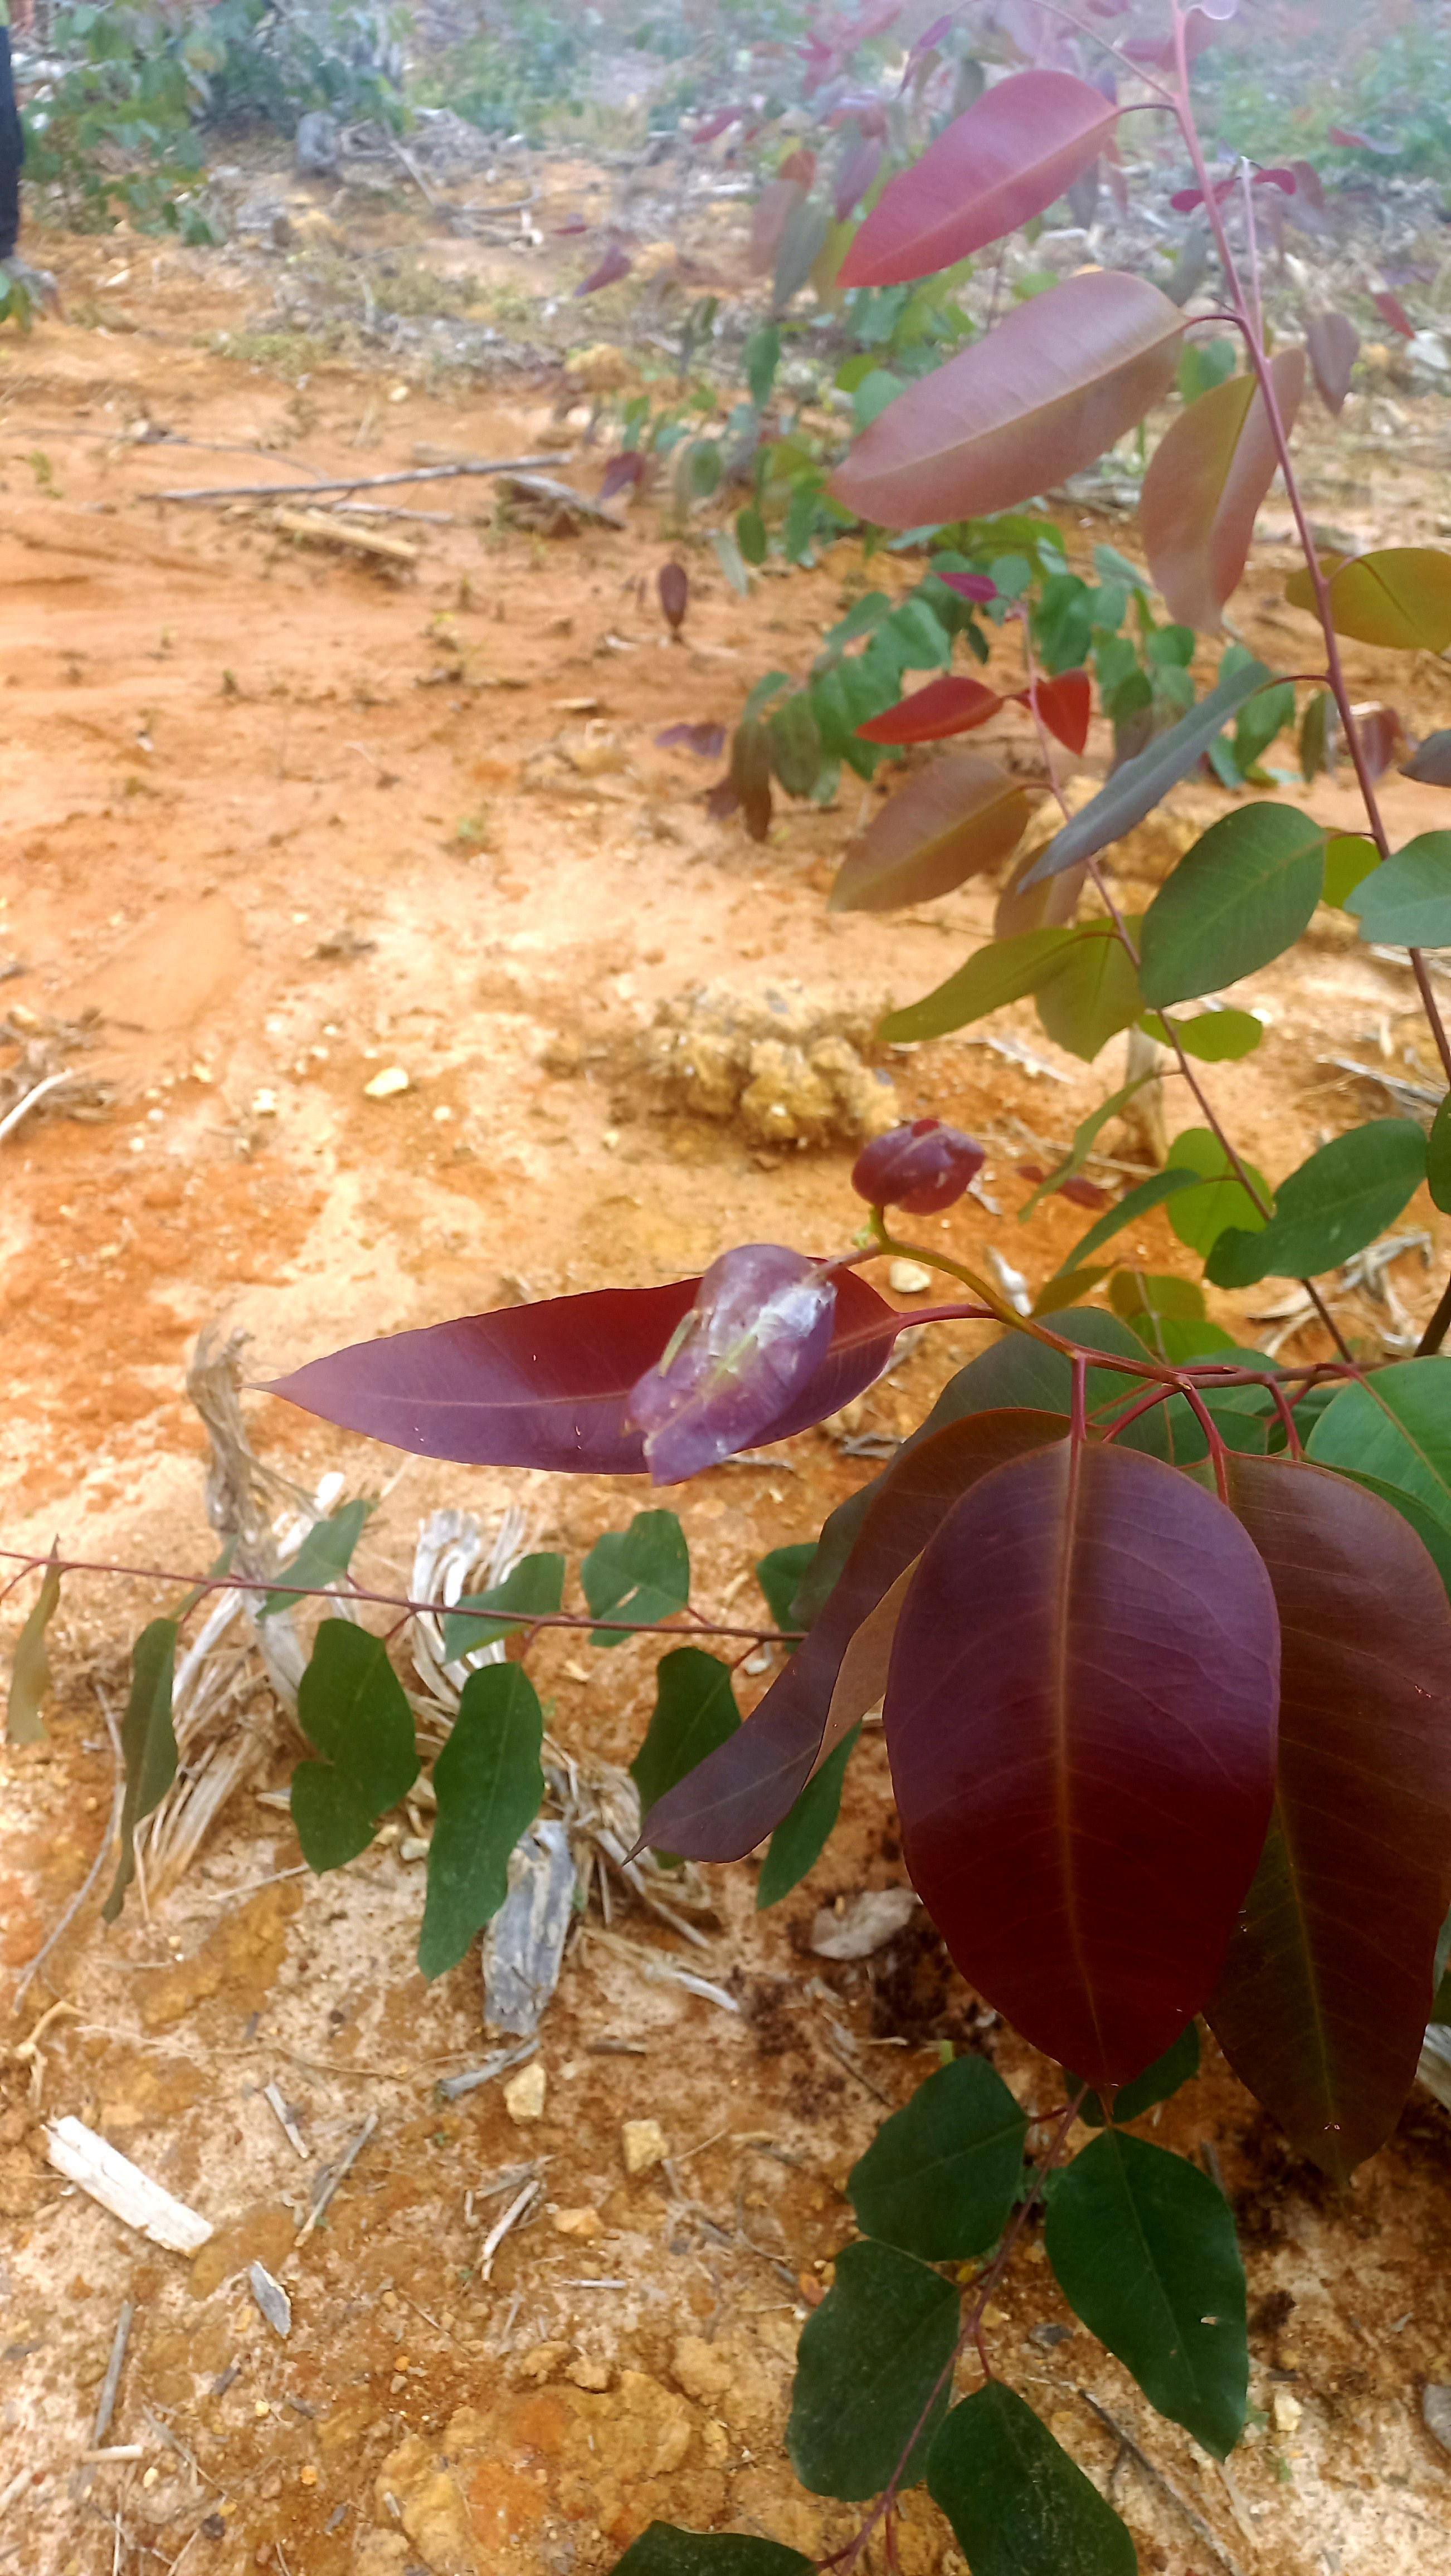Leaf Roller - Insect: (646, 1302, 702, 1385)
Leaf Roller - Leaf: (614, 1237, 837, 1490), (842, 1099, 996, 1221)
